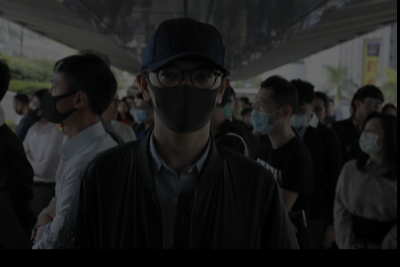with_mask: (148, 61, 218, 131), (38, 77, 74, 125), (249, 97, 281, 133), (358, 123, 385, 156), (289, 105, 310, 129), (27, 99, 41, 125), (133, 104, 148, 123)
without_mask: (359, 97, 381, 121)
